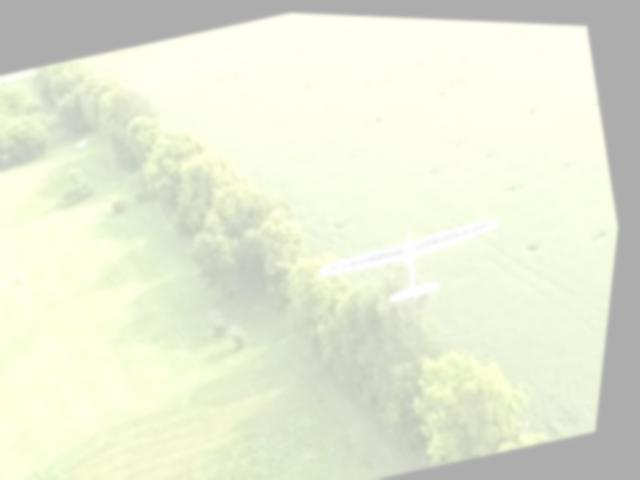uav: (305, 191, 528, 330)
